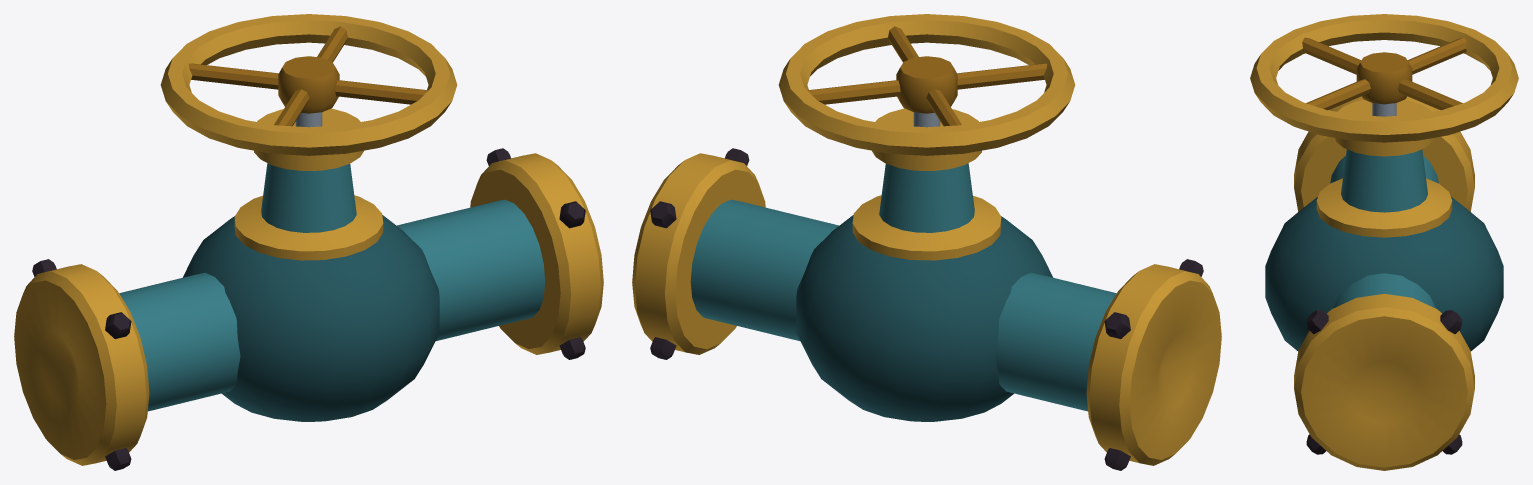
Rendered from Valve_16.glb.
The picture shows the model from 3 angles, left to right: view 1: azimuth 30°, elevation 25°; view 2: azimuth 150°, elevation 25°; view 3: azimuth 270°, elevation 25°; orthographic projection. The views are drawn at different scales.
Parts seen in each view (by area): view 1: Valve_16; view 2: Valve_16; view 3: Valve_16.
Part boxes in pixels (x1,y1,x2,y2): Valve_16: (14,14,603,470); Valve_16: (632,14,1221,470); Valve_16: (1250,14,1518,470).
Bounding box in the file's own units: 2.99 × 1.96 × 1.55.
